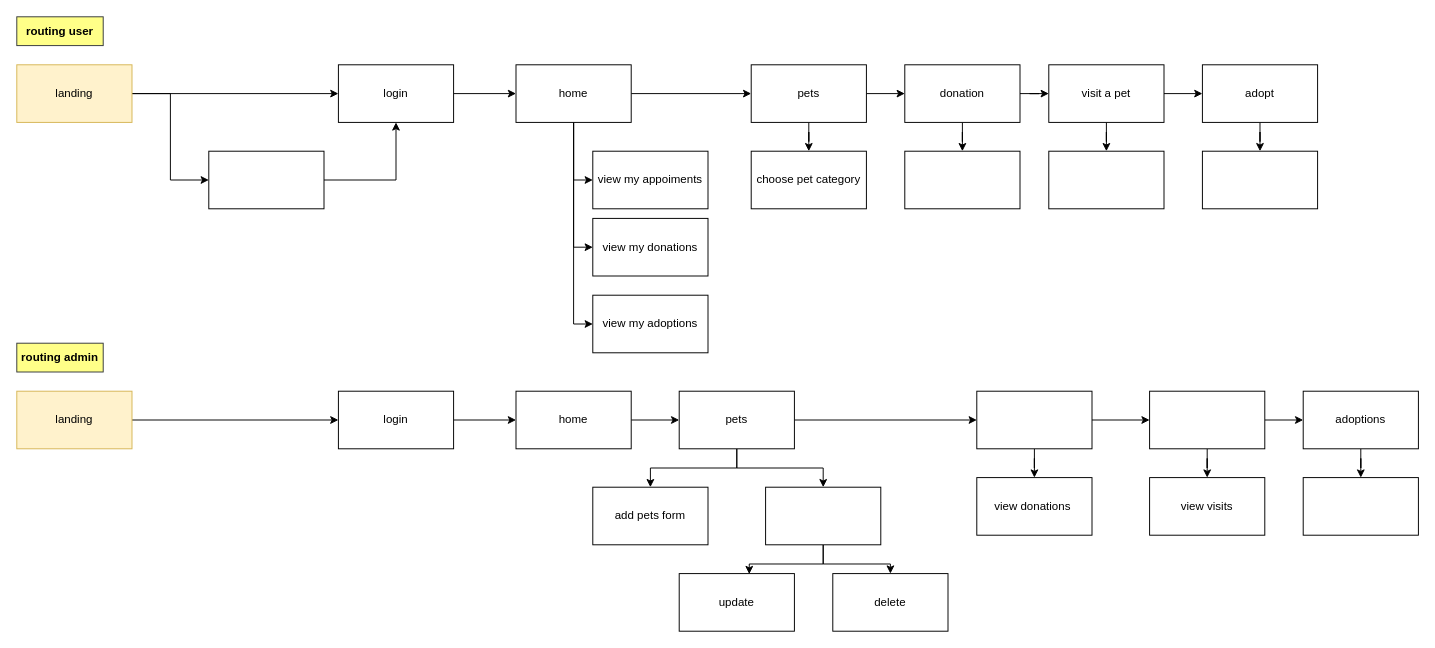
Some shapes in this 1435 by 648 pixel diagram are drawn without their labels. Each missing label, with the box of its shape:
donations: (976, 390, 1092, 449)
fill adopt form: (1201, 150, 1318, 209)
fill appoiment form: (1048, 150, 1164, 209)
fill donation form: (904, 150, 1020, 209)
register: (208, 150, 324, 209)
view adoptions: (1302, 477, 1418, 535)
view all pets: (765, 486, 881, 545)
visits: (1149, 390, 1265, 449)
